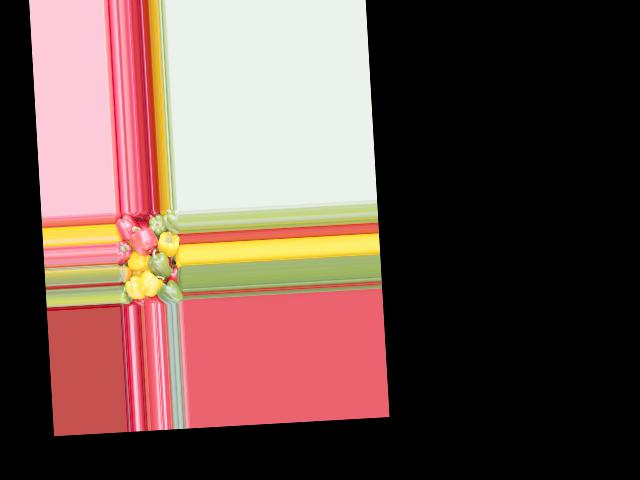bell_pepper: (118, 282, 130, 303)
